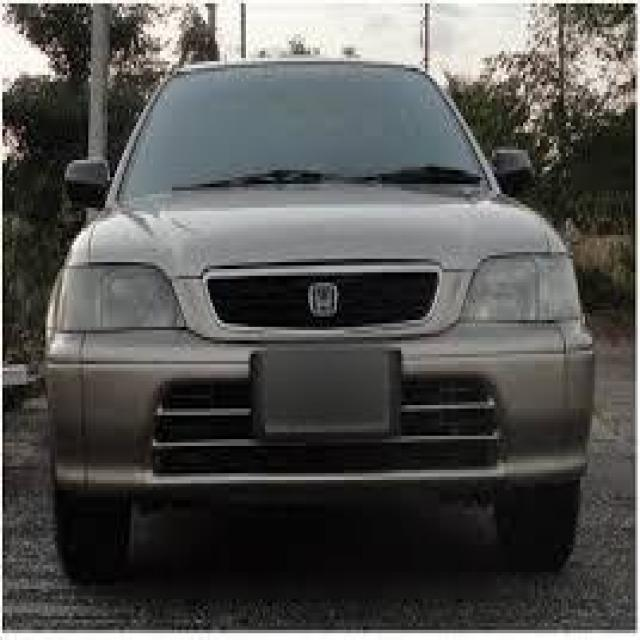front_bumper: (41, 259, 595, 497)
front_glass: (115, 64, 494, 202)
front_left_light: (459, 255, 590, 322)
front_right_light: (45, 266, 189, 330)
hood: (88, 182, 549, 279)
left_mirror: (489, 144, 538, 193)
right_mirror: (63, 159, 114, 215)
wheel: (496, 481, 580, 565), (54, 488, 135, 573)
